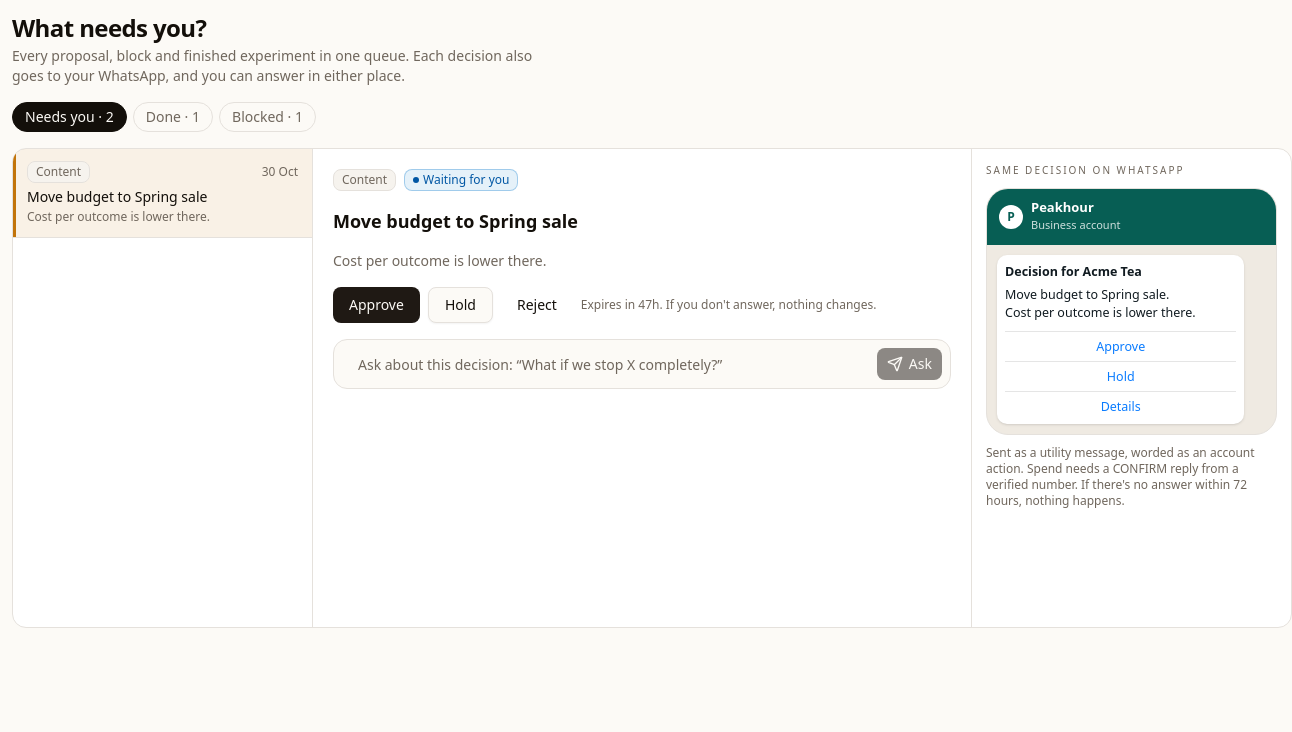
answering › ★a 409 ADS_HALTED renders its action
Click the button "Approve" at (376, 305), box [333,287,420,323]
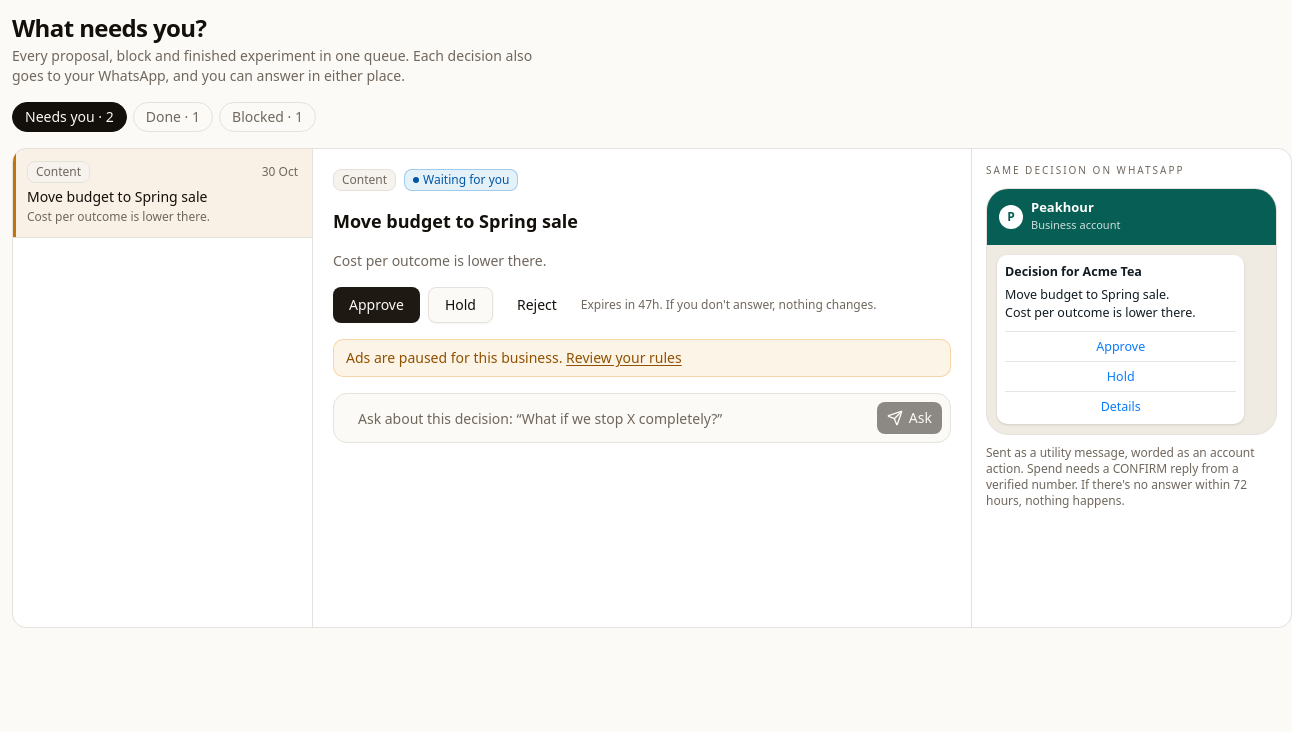
Result: the message "Ads are paused for this business. Review your rules" is shown at [333,339,951,377]
Result: the link "Review your rules" is shown at [566,348,682,367]
